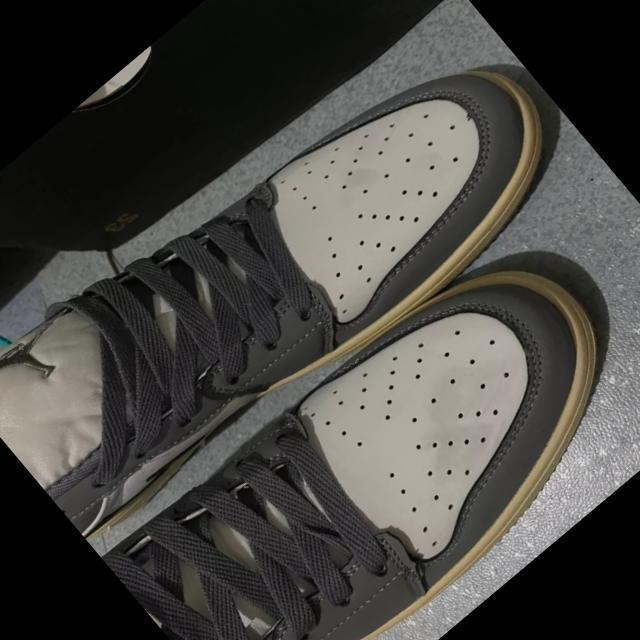nike fake jordan 1: (0, 0, 599, 568), (97, 205, 640, 640)
